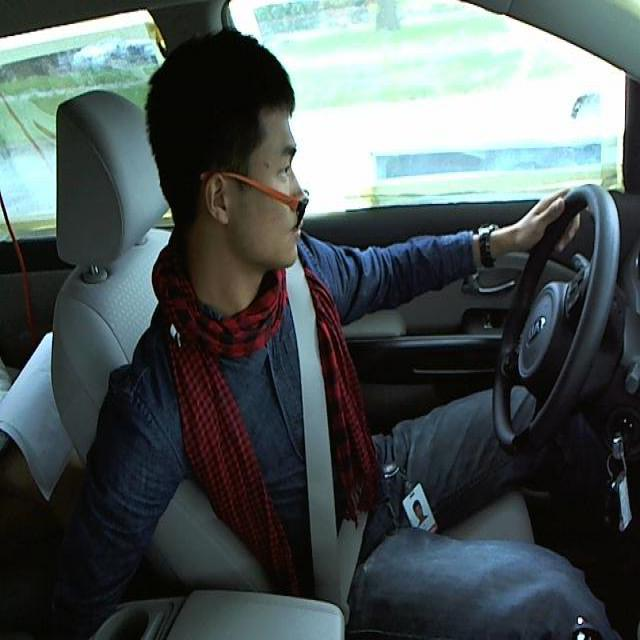seatbelt: (275, 264, 374, 596)
